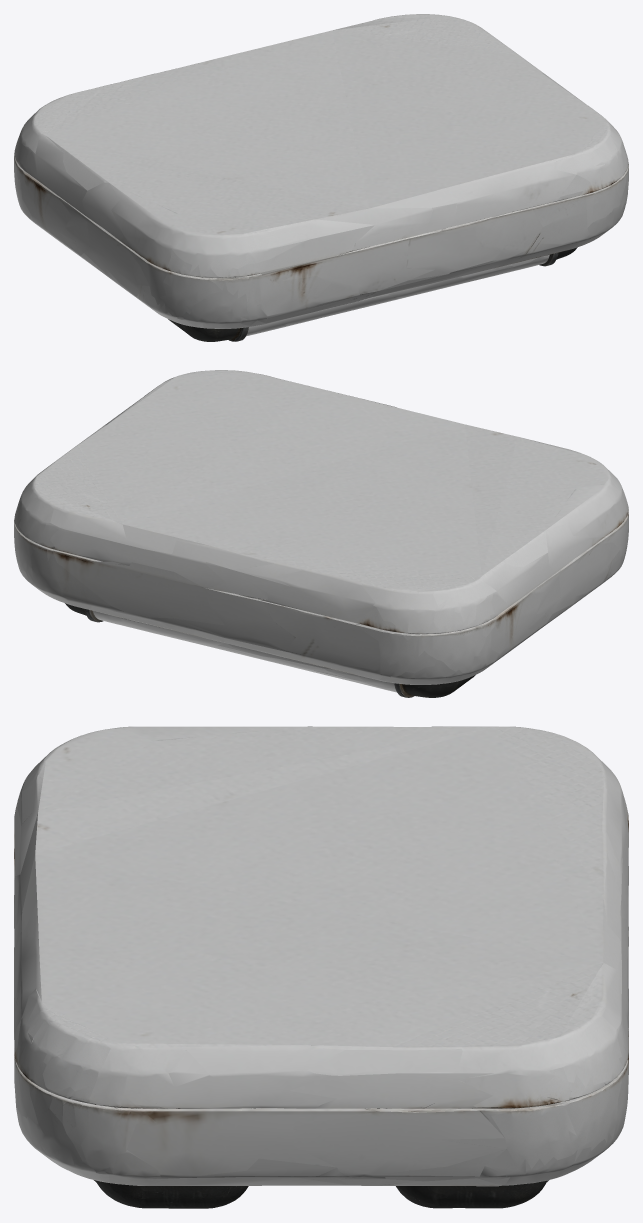
The model's file is plafoniera_neon.glb.
3 renders of one model, top to bottom at view 1: azimuth 30°, elevation 25°; view 2: azimuth 150°, elevation 25°; view 3: azimuth 270°, elevation 25°, orthographic. The views are drawn at different scales.
Visible parts, largest first — view 1: Mesh_0; view 2: Mesh_0; view 3: Mesh_0.
Part boxes in pixels (left/top/right/bottom): Mesh_0: left=14, top=14, right=628, bottom=341; Mesh_0: left=14, top=370, right=628, bottom=697; Mesh_0: left=14, top=726, right=628, bottom=1208.
Size of the model in its own units: 1.9 by 0.503 by 1.43.
1 material, 1 textured.
